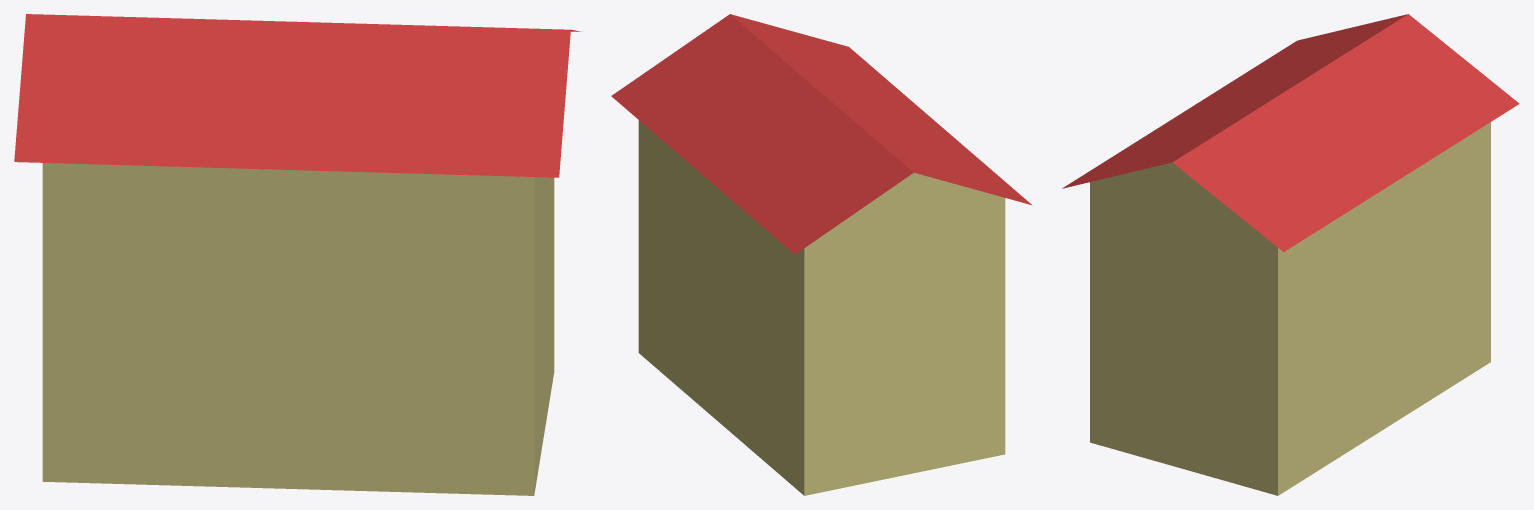
3 renders of one model, left to right at view 1: azimuth 30°, elevation 25°; view 2: azimuth 150°, elevation 25°; view 3: azimuth 270°, elevation 25°, orthographic. The views are drawn at different scales.
Visible parts, largest first — view 1: group_5, group_3; view 2: group_5, group_3, group_4; view 3: group_5, group_3, group_4.
Part boxes in pixels (x1,y1,x2,y2): group_5: (42, 163, 554, 495); group_3: (14, 14, 582, 177); group_5: (638, 120, 1005, 495); group_3: (612, 14, 1032, 254); group_4: (611, 14, 934, 193); group_5: (1090, 122, 1490, 495); group_3: (1062, 14, 1519, 250); group_4: (1173, 14, 1430, 251).
Size of the model in its own units: 18.09 by 16.57 by 12.52.
